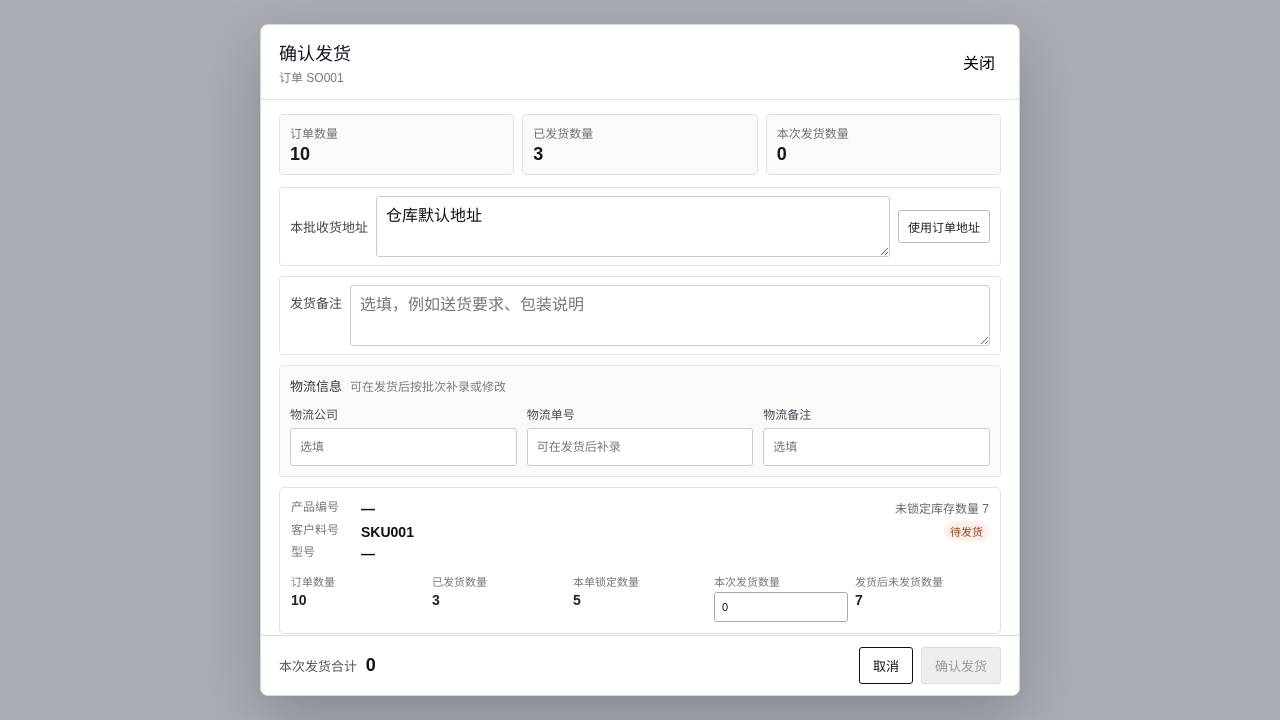
Test case: restores the configured shipment address from the order address button
Replace the text in the text box with test id "shipment-address" with "临时收货地址" at (633, 227), box [376,196,890,257]
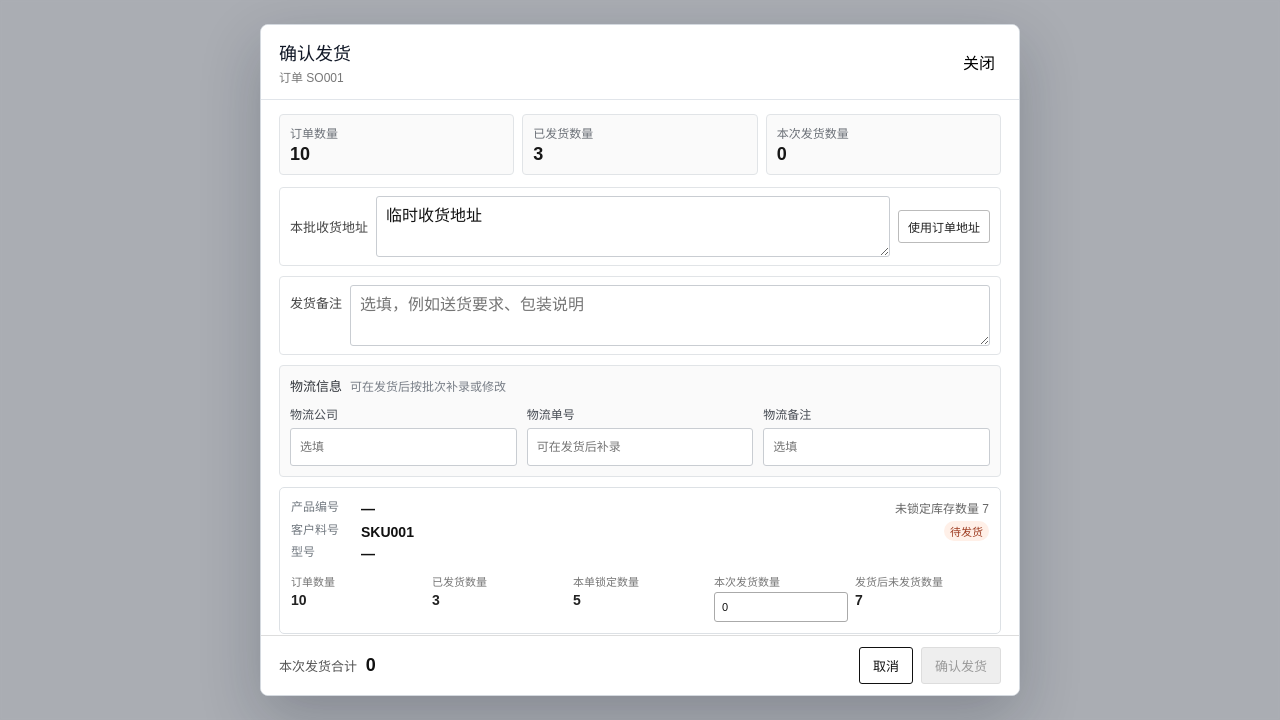
Click the button with test id "use-order-address" at (944, 227), box [898,210,990,243]
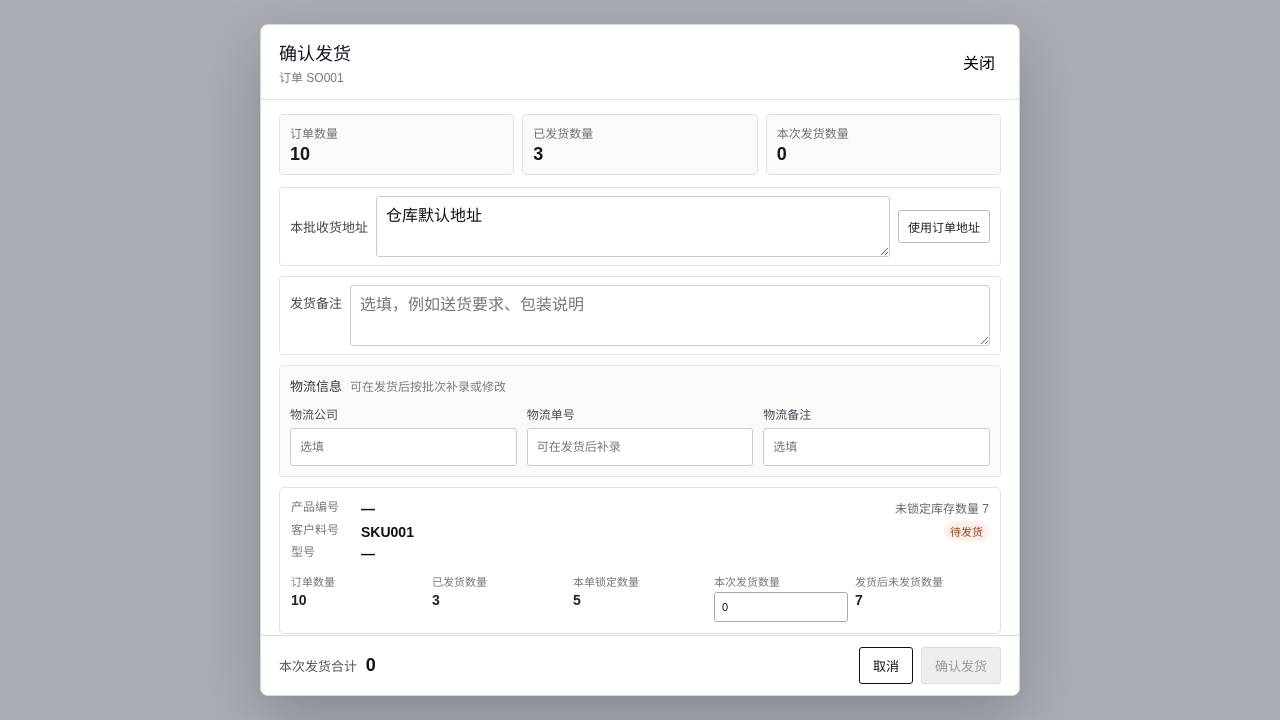
Result: the text box with test id "shipment-address" holds "仓库默认地址" at [376,196,890,257]
